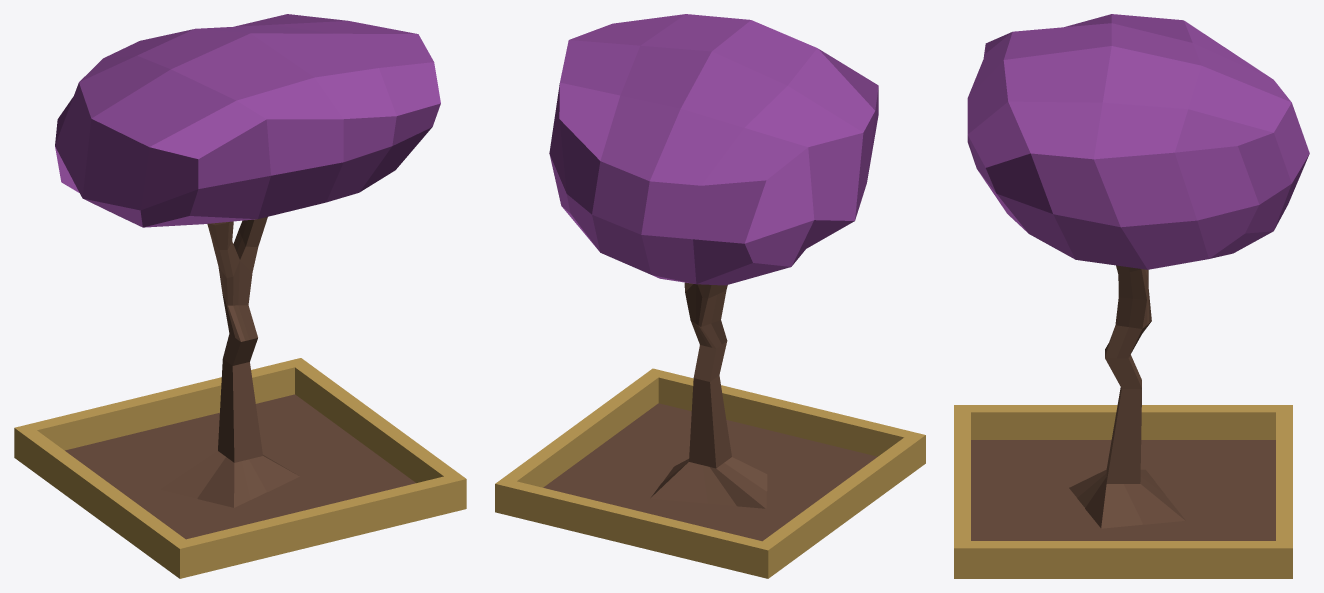
File: tree.gltf
3 renders of one model, left to right at view 1: azimuth 30°, elevation 25°; view 2: azimuth 150°, elevation 25°; view 3: azimuth 270°, elevation 25°, orthographic. The views are drawn at different scales.
Visible parts, largest first — view 1: leaves, enclosure, tree; view 2: leaves, enclosure, tree; view 3: leaves, enclosure, tree.
Boxes of the visible parts, box(x1,y1,x2,y2) form: leaves: box(55, 14, 440, 227); enclosure: box(14, 358, 466, 578); tree: box(160, 217, 299, 507); leaves: box(549, 14, 878, 285); enclosure: box(495, 368, 925, 578); tree: box(650, 282, 767, 508); leaves: box(967, 14, 1309, 269); enclosure: box(954, 405, 1292, 578); tree: box(1069, 265, 1185, 528).
Bounding box in the file's own units: 0.6938 × 0.9438 × 0.6563.
3 materials, 3 textured.
